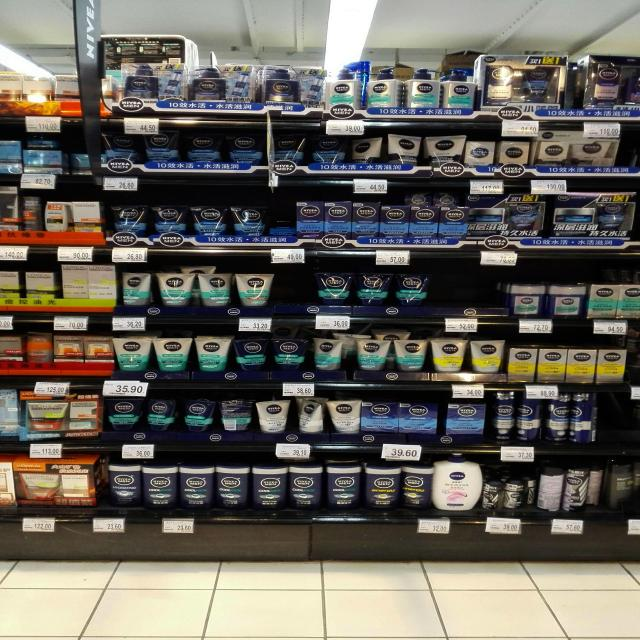empty_space: (600, 400, 636, 448), (435, 276, 494, 304), (271, 277, 308, 301), (263, 203, 293, 226)
